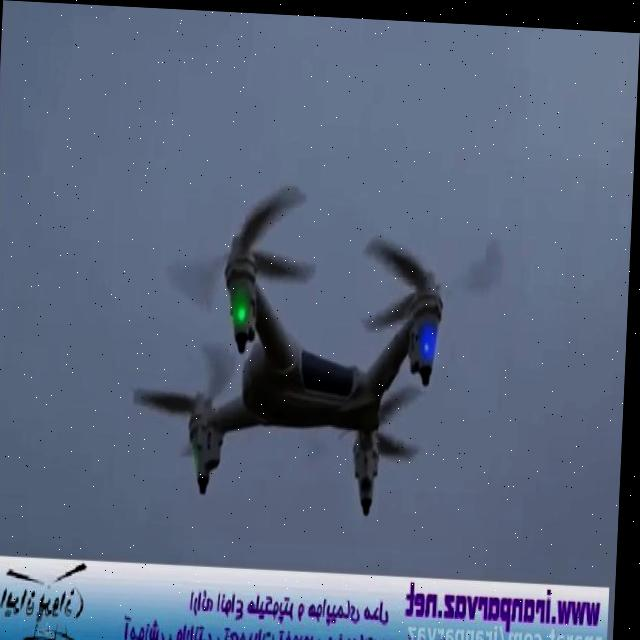drone: (128, 164, 521, 521)
